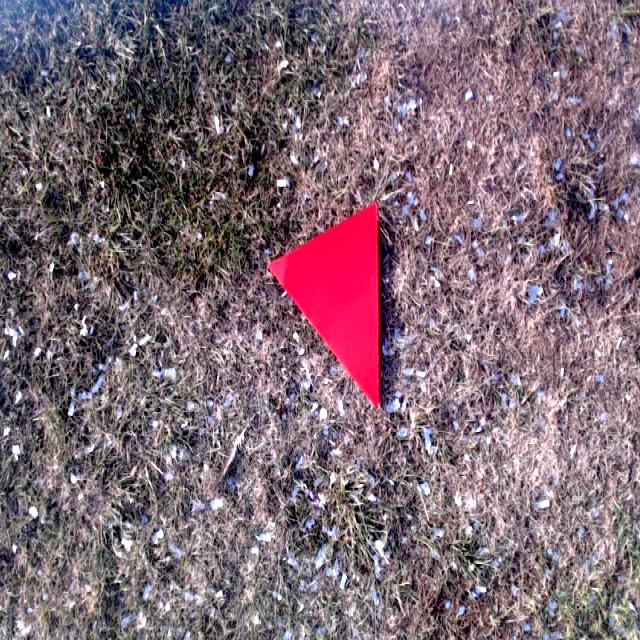red_triangle: (265, 196, 380, 407)
